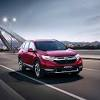Honda: (17, 38, 83, 79)
